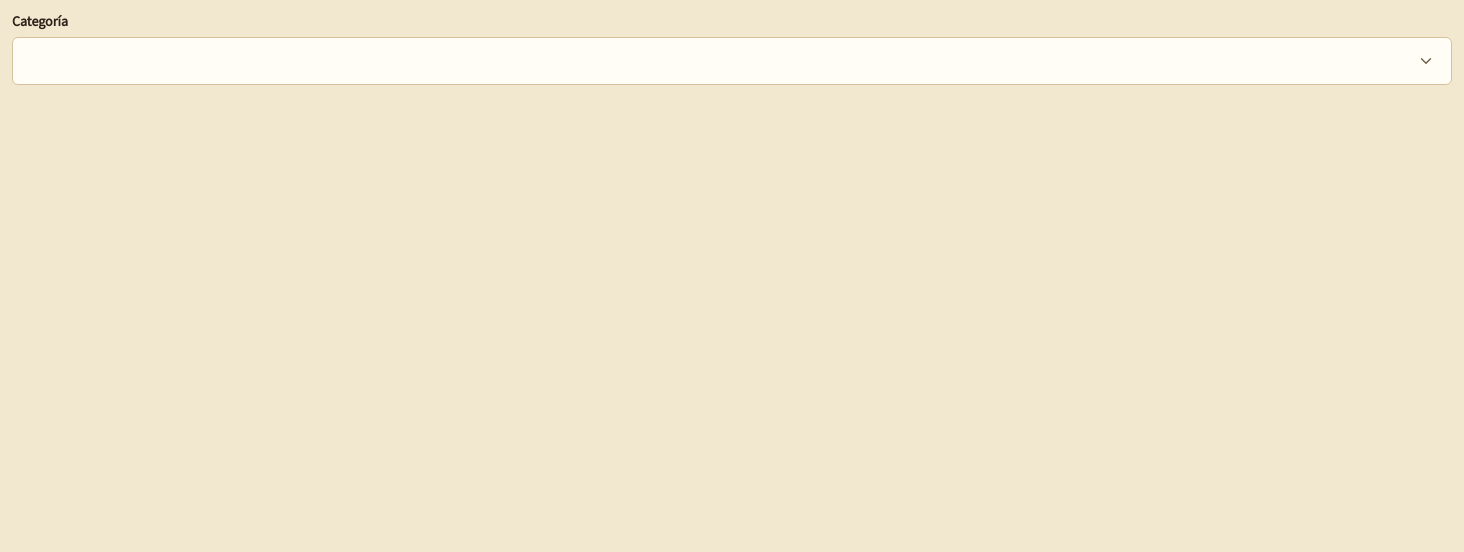
Test: SelectorConBuscador › «Recientes» sale arriba (hasta 5) y no con búsqueda
Click the dropdown named "Categoría": (1426, 61) [12,37,1452,85]
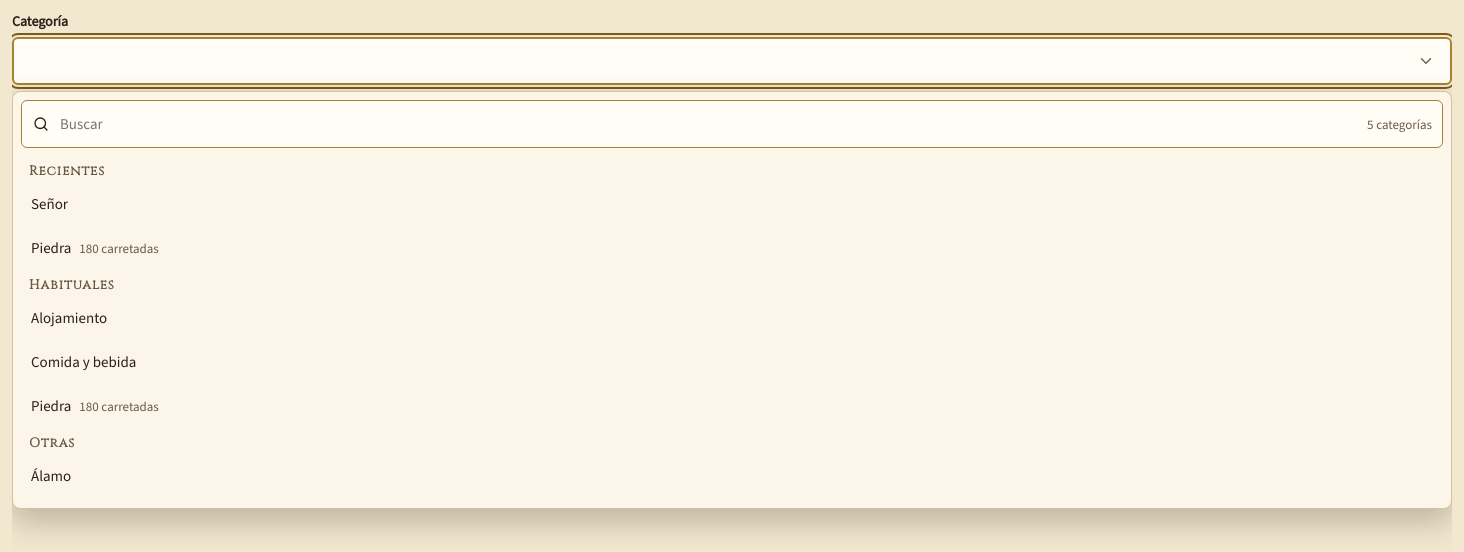
Result: the element "Recientes" is shown at [29,162,159,258]
Result: the option "Señor" below "Recientes" is shown at [31,194,68,214]
Result: the option "Piedra 180 carretadas" below "Señor" is shown at [31,238,159,258]
In the search field labelled "Buscar": (709, 124) [58,113,1359,135], type "a"
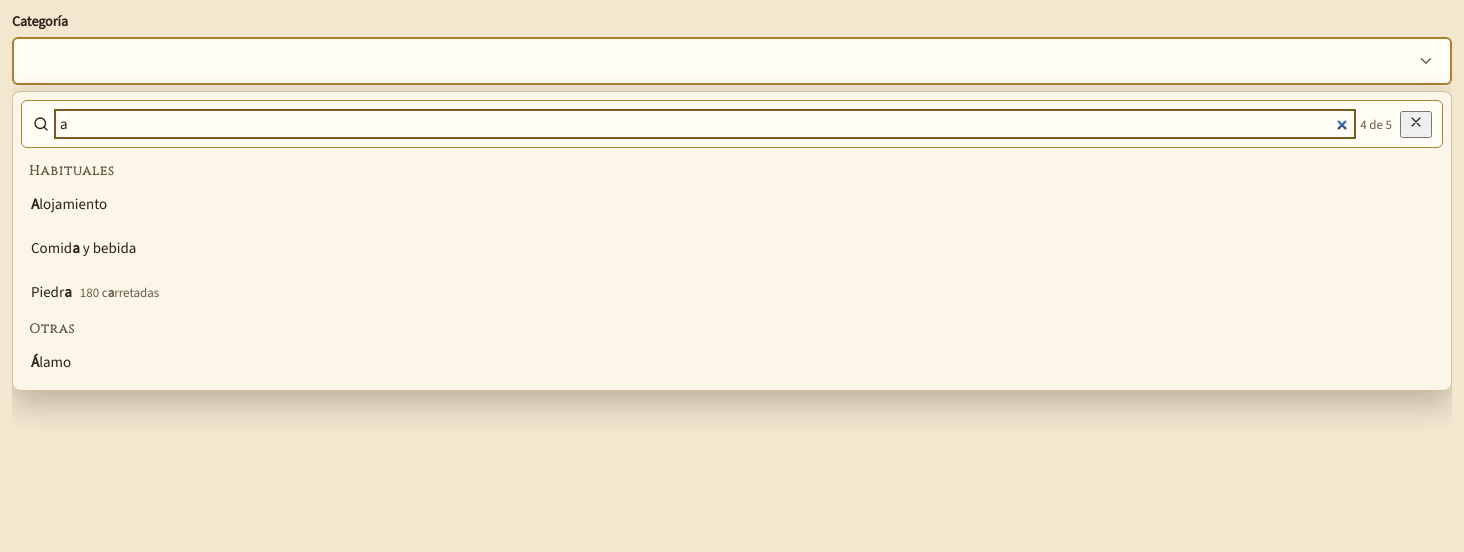
Result: the text "Recientes" is gone
